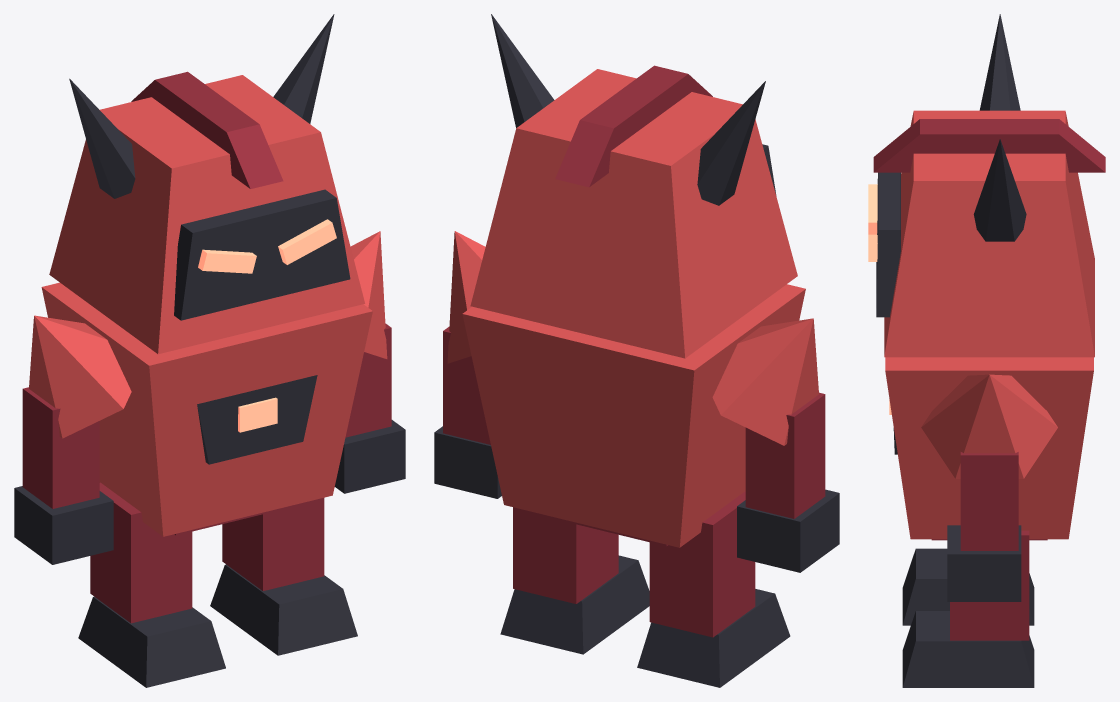
File: red_grunt_lo.glb
3 views of the same model, side by side, from view 1: azimuth 30°, elevation 25°; view 2: azimuth 150°, elevation 25°; view 3: azimuth 270°, elevation 25° (orthographic). The views are drawn at different scales.
Parts seen in each view (by area): view 1: head, torso, armL, legL, legR, armR; view 2: head, torso, armL, legL, legR, armR; view 3: head, torso, armR, legR, legL.
Boxes of the visible parts, left/top/right/bottom form: head: left=49, top=14, right=364, bottom=354; torso: left=41, top=282, right=372, bottom=536; armL: left=14, top=315, right=131, bottom=564; legL: left=78, top=482, right=225, bottom=687; legR: left=210, top=498, right=357, bottom=655; armR: left=334, top=231, right=405, bottom=493; head: left=470, top=14, right=797, bottom=358; torso: left=462, top=284, right=805, bottom=547; armL: left=712, top=318, right=839, bottom=572; legL: left=637, top=491, right=790, bottom=687; legR: left=500, top=507, right=649, bottom=654; armR: left=434, top=231, right=501, bottom=498; head: left=868, top=14, right=1105, bottom=357; torso: left=885, top=357, right=1093, bottom=540; armR: left=921, top=374, right=1057, bottom=601; legR: left=902, top=530, right=1034, bottom=687; legL: left=902, top=548, right=1034, bottom=625.
Size of the model in its own units: 0.75 by 1.17 by 0.45.
